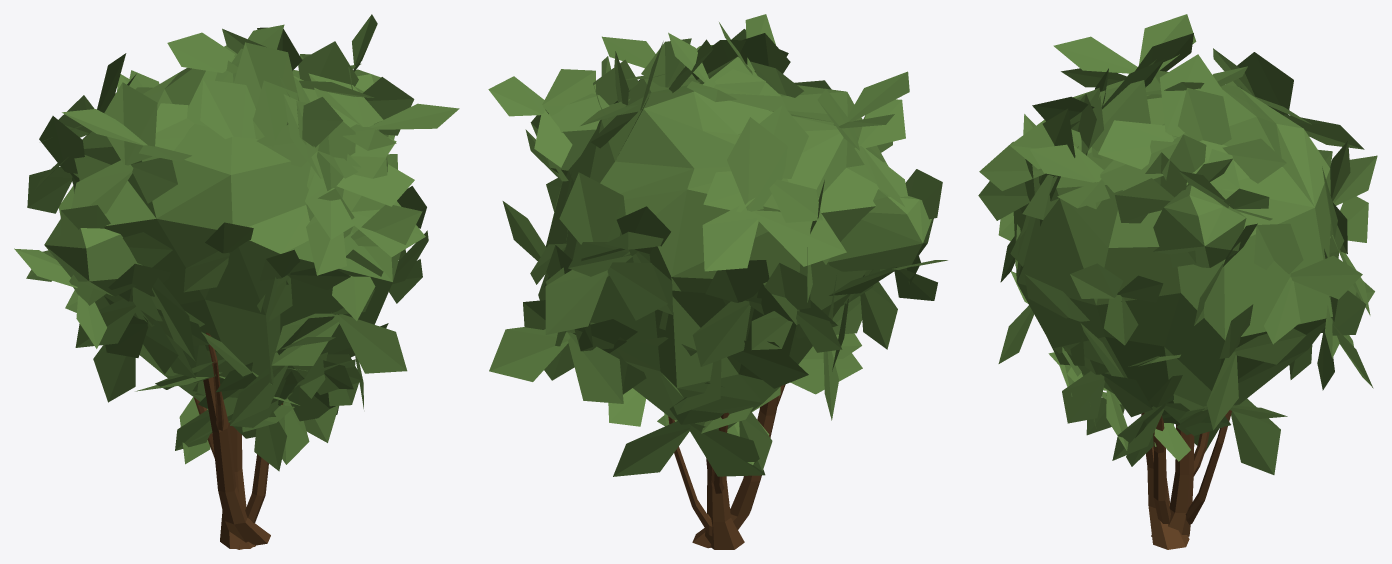
File: SM_Bush_Magnolia_Mature_A.fbx
3 views of the same model, side by side, from view 1: azimuth 30°, elevation 25°; view 2: azimuth 150°, elevation 25°; view 3: azimuth 270°, elevation 25° (orthographic). The views are drawn at different scales.
Visible parts, largest first — view 1: bush-magnolia-mature-a; view 2: bush-magnolia-mature-a; view 3: bush-magnolia-mature-a.
Part boxes in pixels (x1=…): bush-magnolia-mature-a: x1=14, y1=14, x2=459, y2=549; bush-magnolia-mature-a: x1=488, y1=14, x2=947, y2=549; bush-magnolia-mature-a: x1=978, y1=14, x2=1377, y2=549.
Size of the model in its own units: 1.79 by 2.11 by 1.59.
